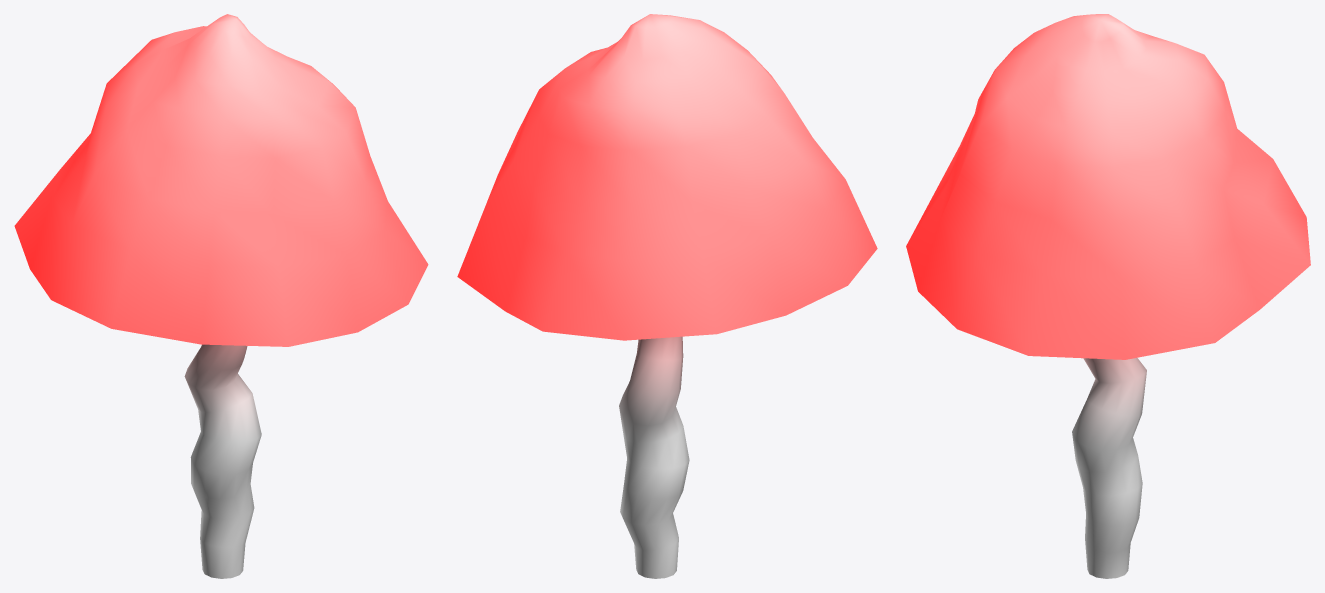
The model's file is mushroom_1.glb.
The picture shows the model from 3 angles, left to right: view 1: azimuth 30°, elevation 25°; view 2: azimuth 150°, elevation 25°; view 3: azimuth 270°, elevation 25°; orthographic projection.
Parts seen in each view (by area): view 1: geo1; view 2: geo1; view 3: geo1.
Boxes of the visible parts, x1,y1,x2,y2 form: geo1: (14, 14, 428, 578); geo1: (457, 14, 877, 578); geo1: (906, 14, 1310, 578).
Bounding box in the file's own units: 0.2068 × 0.3067 × 0.2028.
